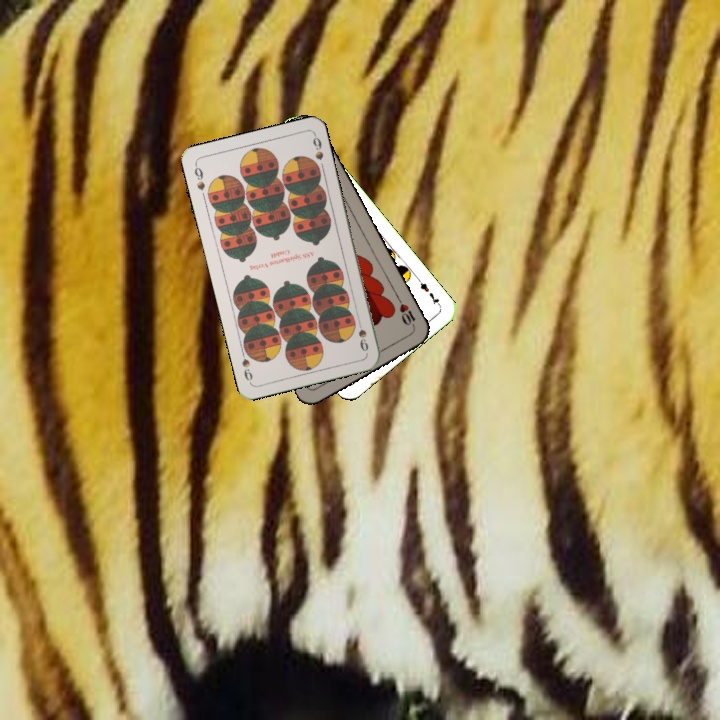E7: (413, 275, 443, 309)
H10: (393, 294, 418, 331)
S9: (353, 314, 371, 354), (190, 161, 207, 193)
